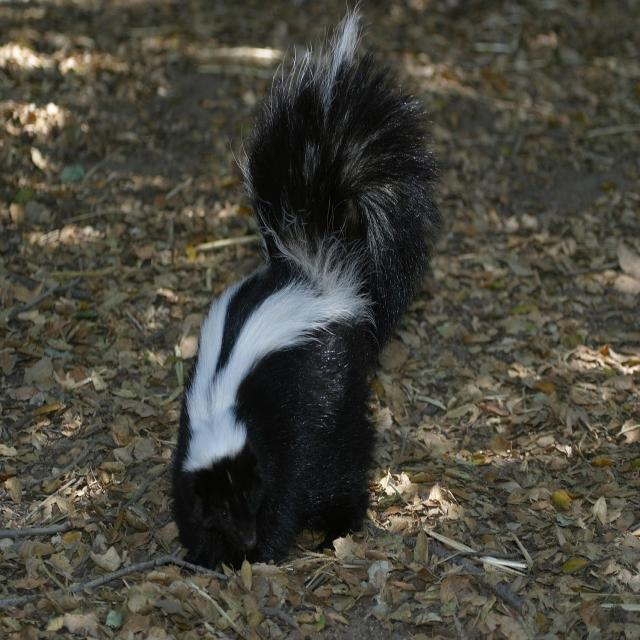Skunk: (160, 24, 446, 574)
